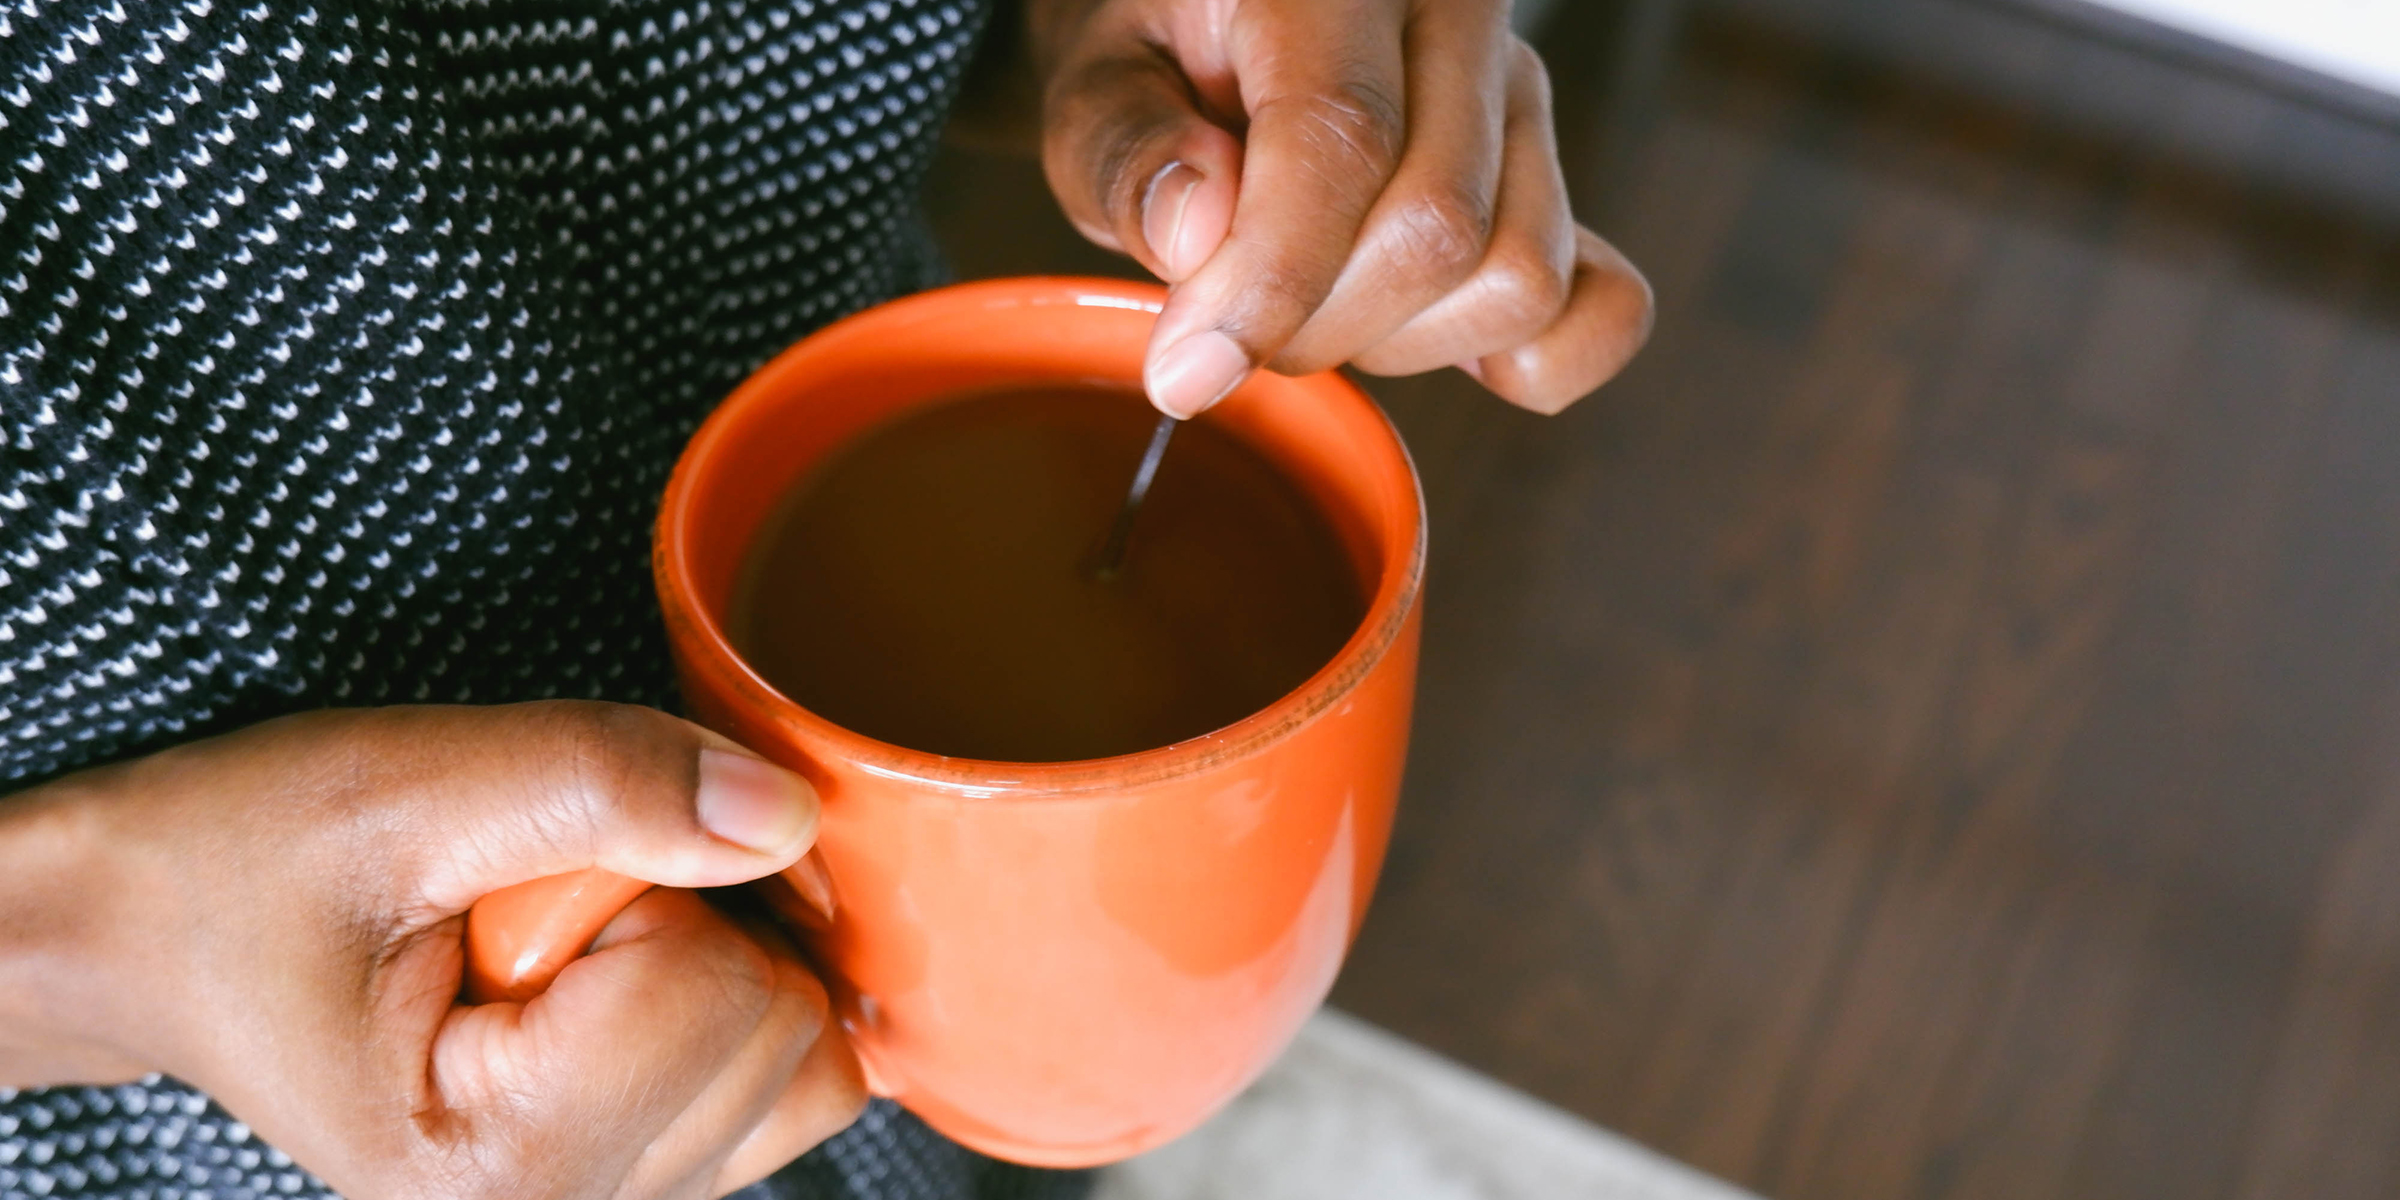cup: (652, 276, 1437, 1169)
